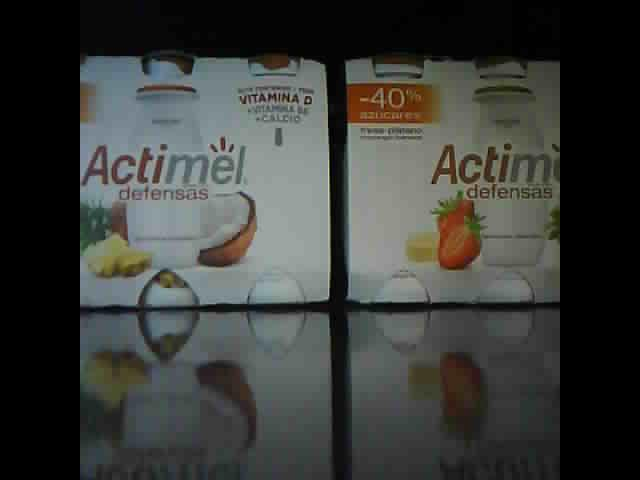actimel: (80, 51, 330, 308), (343, 54, 559, 307)
